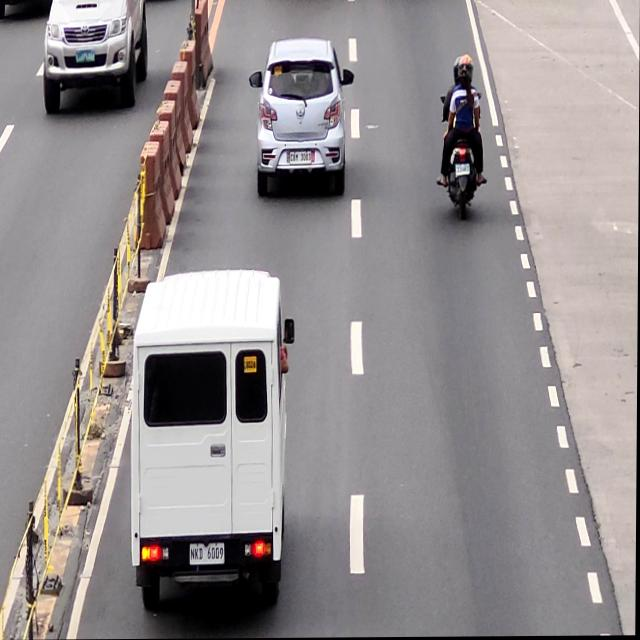Car: (129, 266, 295, 619), (250, 35, 355, 199)
License-Plate: (189, 544, 225, 566), (290, 149, 312, 164), (455, 165, 470, 177)
Motorcycle: (440, 93, 482, 221)
